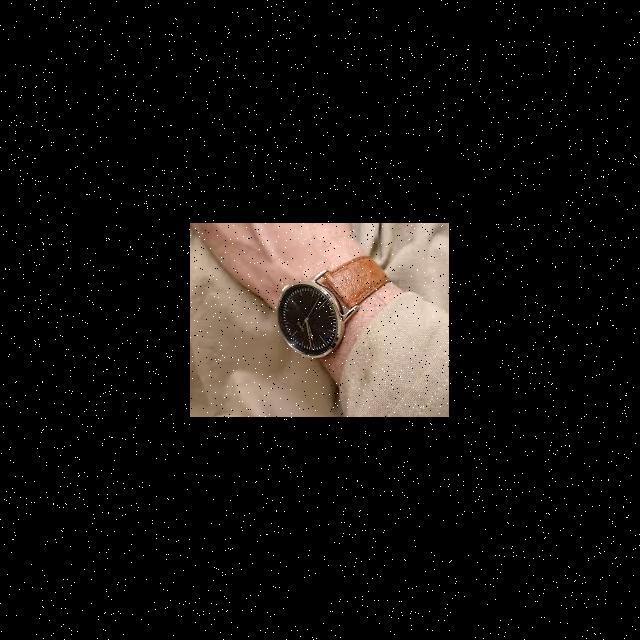watch: (260, 257, 420, 360)
